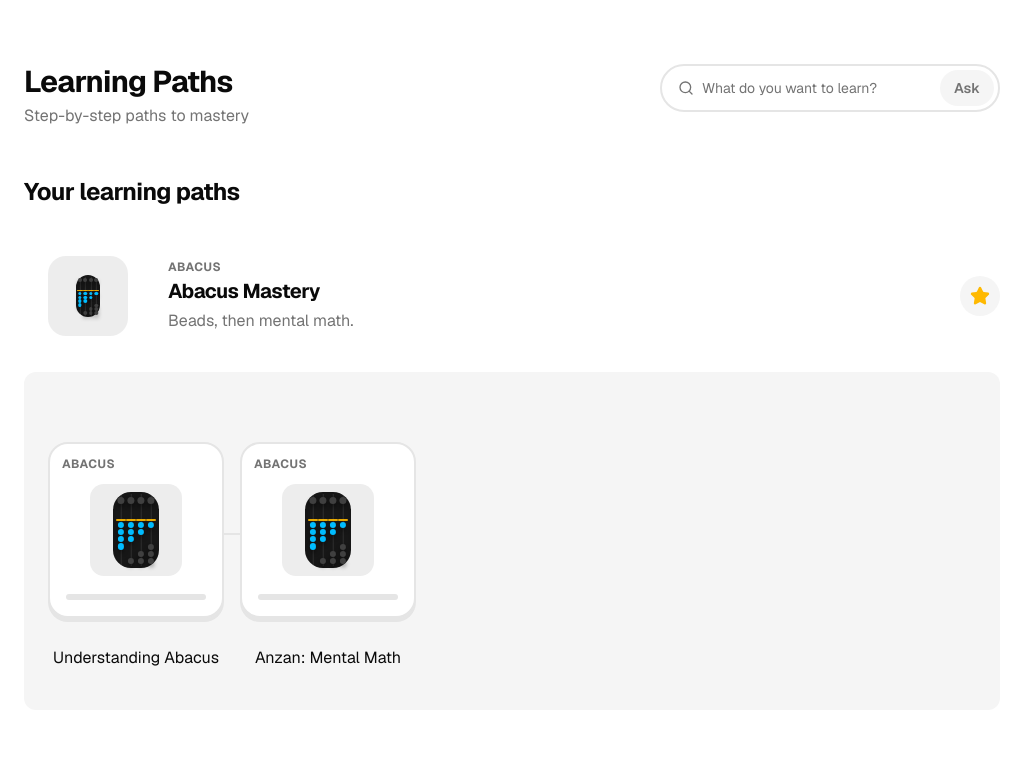
Test case: CoursesBrowser › says so when nothing matches
Type "zzz" into the dropdown named "Search lessons and learning paths" at (817, 88), box [702,70,932,106]
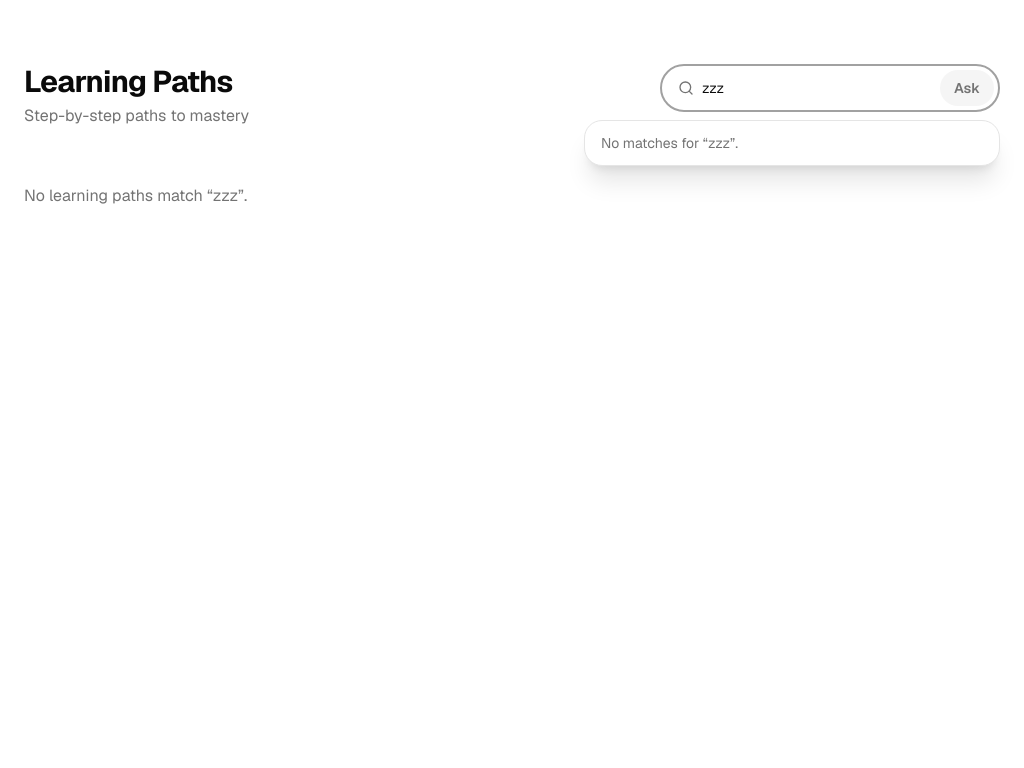
Expected: the text "No learning paths match “zzz”." is shown, [24,185,247,206]
Expected: the heading "Your learning paths" is gone
